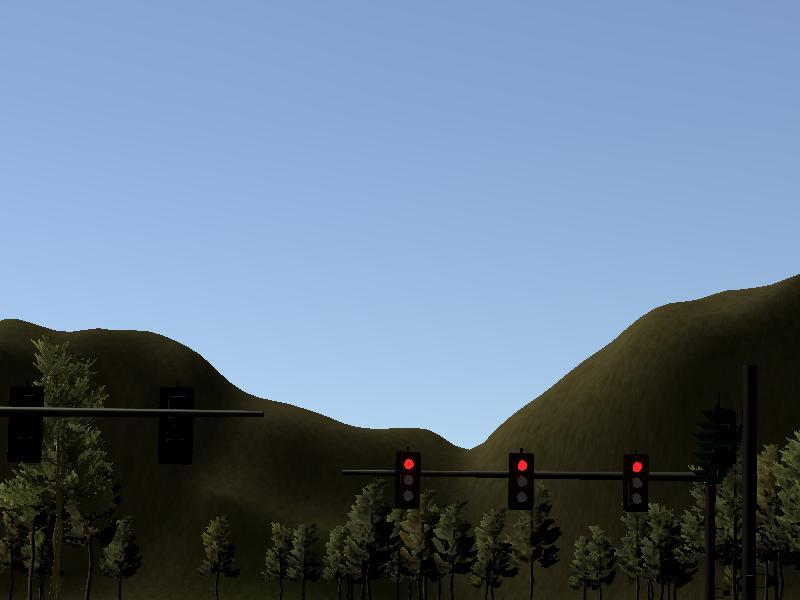Red: (395, 451, 420, 508), (623, 455, 648, 512), (508, 452, 533, 509)
